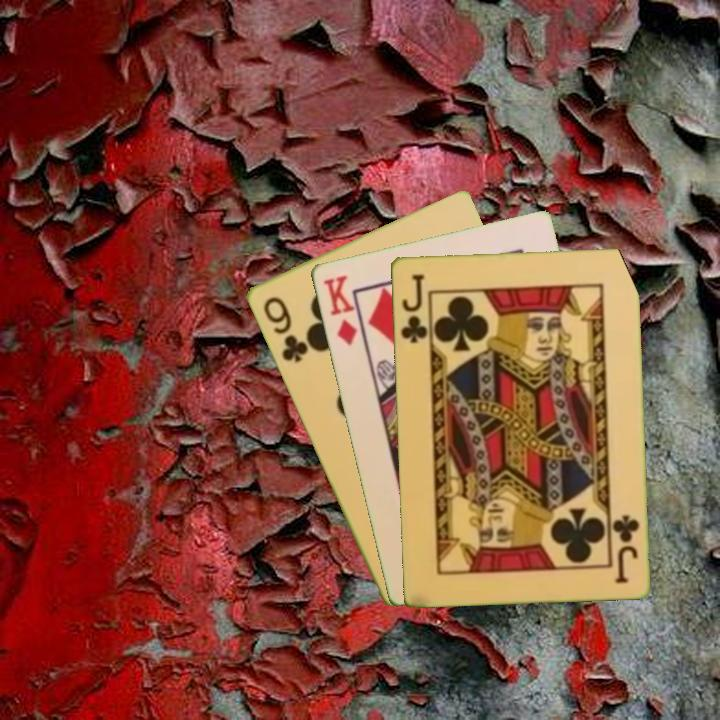9c: (259, 293, 310, 366)
Jc: (397, 270, 430, 346), (609, 511, 641, 586)
Kd: (319, 271, 360, 349)
